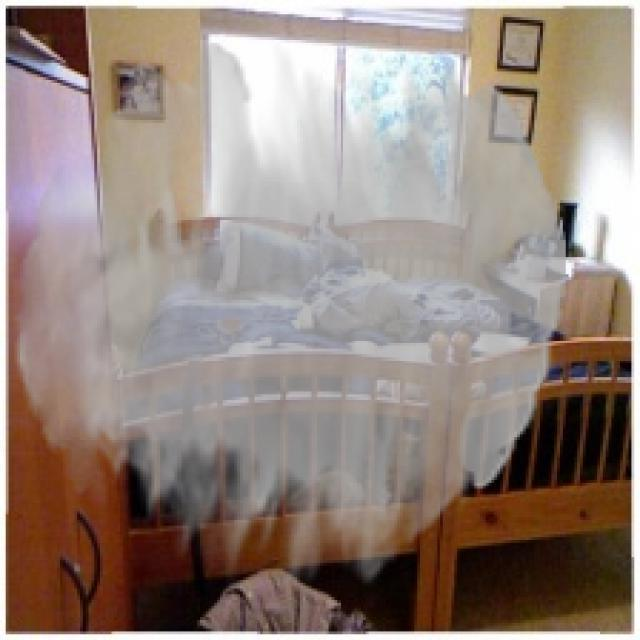Smoke: (14, 42, 566, 588)
